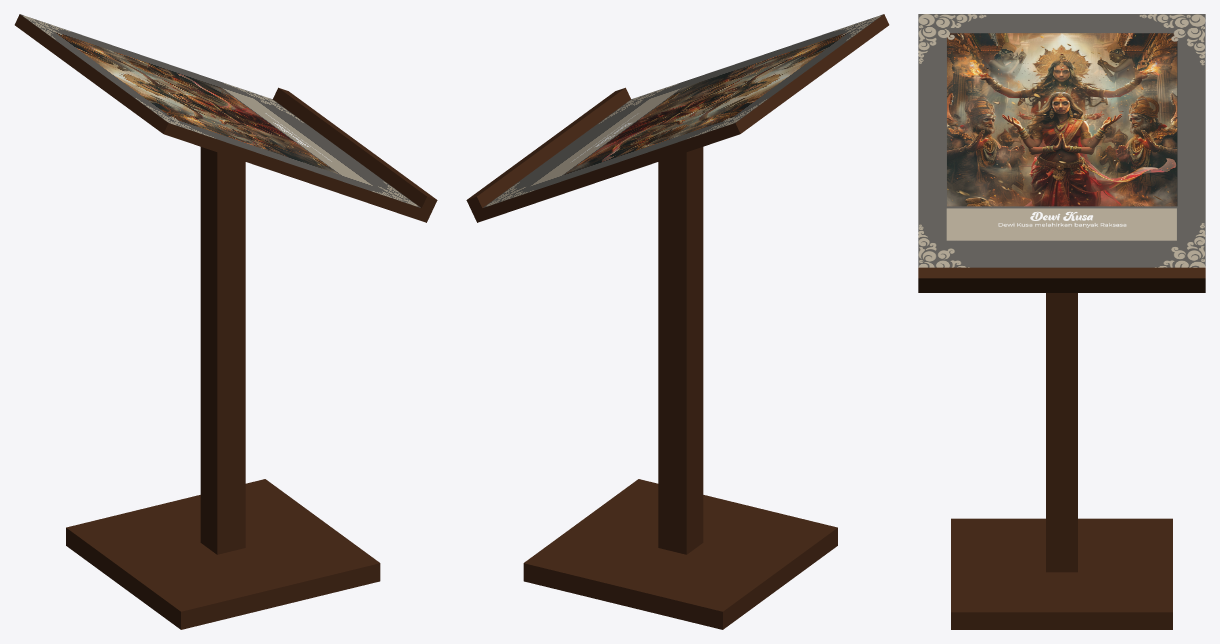
Rendered from Dewi Kusa.glb.
The picture shows the model from 3 angles, left to right: view 1: azimuth 30°, elevation 25°; view 2: azimuth 150°, elevation 25°; view 3: azimuth 270°, elevation 25°; orthographic projection. The views are drawn at different scales.
Visible parts, largest first — view 1: Cube.001, Cube.002, Cube; view 2: Cube.001, Cube.002, Cube; view 3: Cube.002, Cube.001, Cube.
Part boxes in pixels (x1,y1,x2,y2): Cube.001: (66,479,380,629); Cube.002: (14,14,437,222); Cube: (200,147,245,554); Cube.001: (523,479,837,629); Cube.002: (466,14,889,222); Cube: (658,147,703,554); Cube.002: (918,14,1205,292); Cube.001: (951,518,1172,629); Cube: (1046,293,1077,572).
Size of the model in its own units: 0.6504 by 1.19 by 0.6117.
2 materials, 1 textured.
